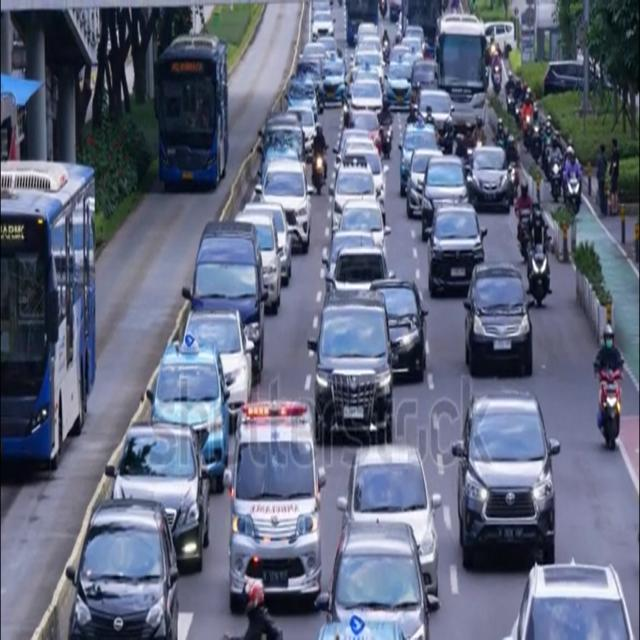Ambulance: (227, 399, 327, 616)
